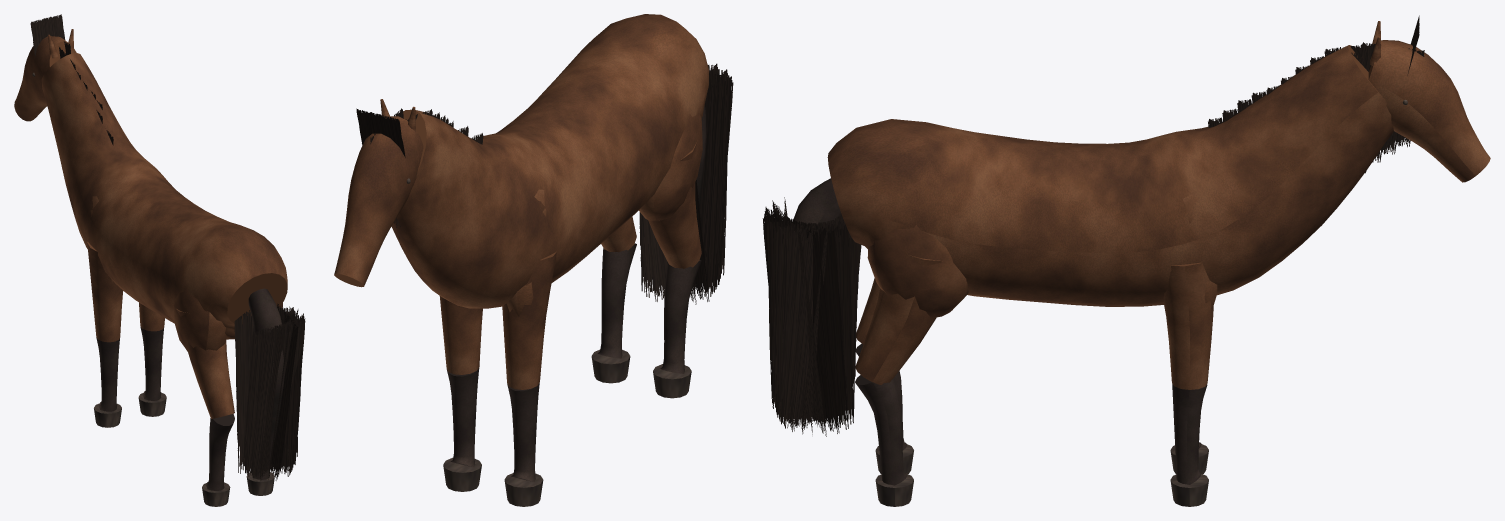
File: cavallo_baio.gltf
The picture shows the model from 3 angles, left to right: view 1: azimuth 30°, elevation 25°; view 2: azimuth 150°, elevation 25°; view 3: azimuth 270°, elevation 25°; orthographic projection. The views are drawn at different scales.
Parts seen in each view (by area): view 1: cavallo_baio; view 2: cavallo_baio; view 3: cavallo_baio.
Part boxes in pixels (x1,y1,x2,y2): cavallo_baio: (14,14,305,506); cavallo_baio: (334,14,733,506); cavallo_baio: (762,15,1490,506).
Size of the model in its own units: 0.6098 by 2.05 by 2.94.
4 materials, 4 textured.
